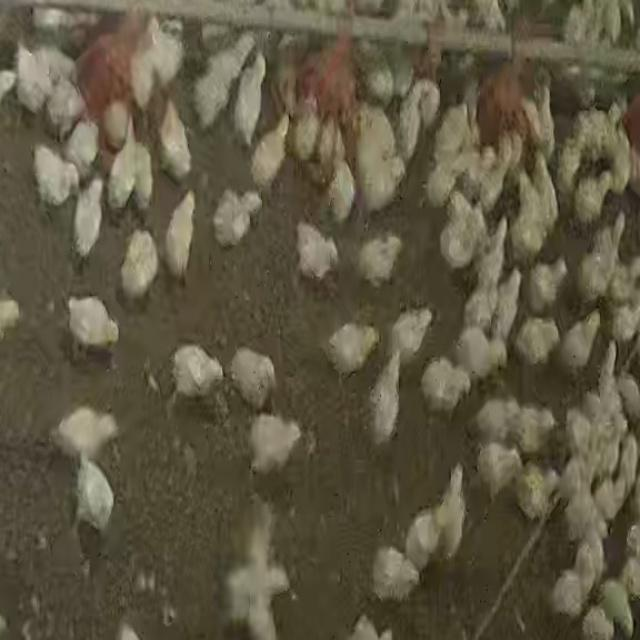chicken: (232, 521, 285, 640), (508, 158, 558, 262), (468, 217, 509, 318), (396, 71, 442, 159), (139, 13, 186, 97), (583, 208, 624, 303), (241, 411, 299, 477), (438, 192, 485, 271), (53, 405, 119, 461), (431, 457, 465, 559), (505, 454, 558, 519), (369, 347, 403, 447), (228, 345, 279, 411), (66, 293, 120, 355), (234, 49, 268, 146), (211, 185, 263, 248), (423, 144, 478, 203), (250, 114, 292, 191), (156, 96, 194, 181), (32, 142, 80, 208), (324, 320, 378, 378), (352, 101, 396, 172), (119, 225, 160, 301), (567, 475, 609, 549), (76, 452, 114, 533), (371, 543, 422, 603), (355, 31, 398, 102), (473, 438, 523, 497), (454, 328, 510, 380), (556, 309, 600, 374), (419, 357, 469, 414), (600, 334, 630, 428), (165, 190, 197, 278), (295, 219, 339, 283), (360, 146, 402, 213), (207, 26, 250, 91), (72, 175, 105, 259), (189, 67, 232, 131), (176, 344, 225, 398), (569, 166, 613, 226), (507, 402, 557, 454), (14, 41, 49, 115), (30, 2, 104, 37), (40, 77, 83, 137), (106, 132, 139, 210), (313, 106, 346, 181), (492, 269, 525, 343), (27, 42, 82, 86), (555, 439, 592, 504), (404, 509, 442, 570), (388, 308, 430, 363), (433, 100, 469, 164), (527, 258, 569, 312), (472, 398, 518, 447), (323, 150, 353, 224), (555, 569, 596, 623), (356, 233, 398, 285), (534, 77, 560, 154), (598, 580, 634, 634), (584, 386, 615, 446), (604, 260, 640, 310), (292, 102, 323, 160), (574, 545, 603, 606), (516, 317, 555, 362), (68, 123, 100, 175), (101, 97, 133, 149), (566, 409, 591, 474), (521, 97, 548, 157), (597, 470, 629, 520), (615, 425, 640, 488)
